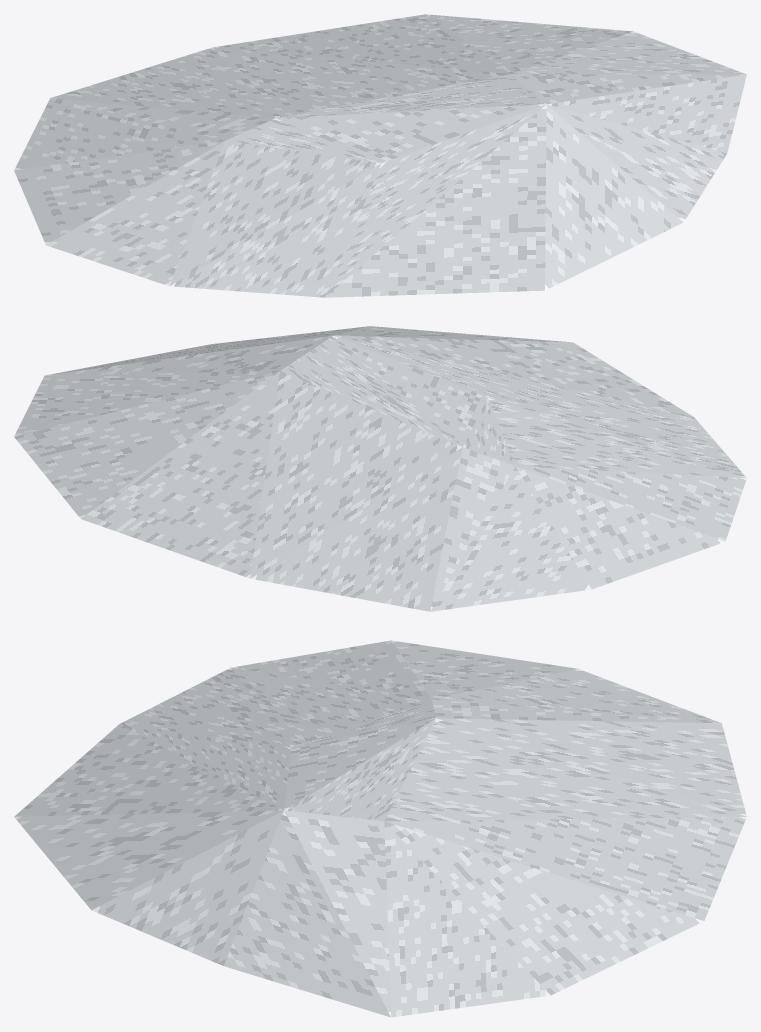
File: wrapper_foil.glb
3 views of the same model, one above another, from view 1: azimuth 30°, elevation 25°; view 2: azimuth 150°, elevation 25°; view 3: azimuth 270°, elevation 25° (orthographic). The views are drawn at different scales.
Parts seen in each view (by area): view 1: block_foil; view 2: block_foil; view 3: block_foil.
Part boxes in pixels (x1,y1,x2,y2): block_foil: (14, 14, 746, 297); block_foil: (14, 326, 746, 611); block_foil: (14, 640, 746, 1017).
Bounding box in the file's own units: 0.1698 × 0.0154 × 0.1394.
Materials: 1 (1 with a texture image).
